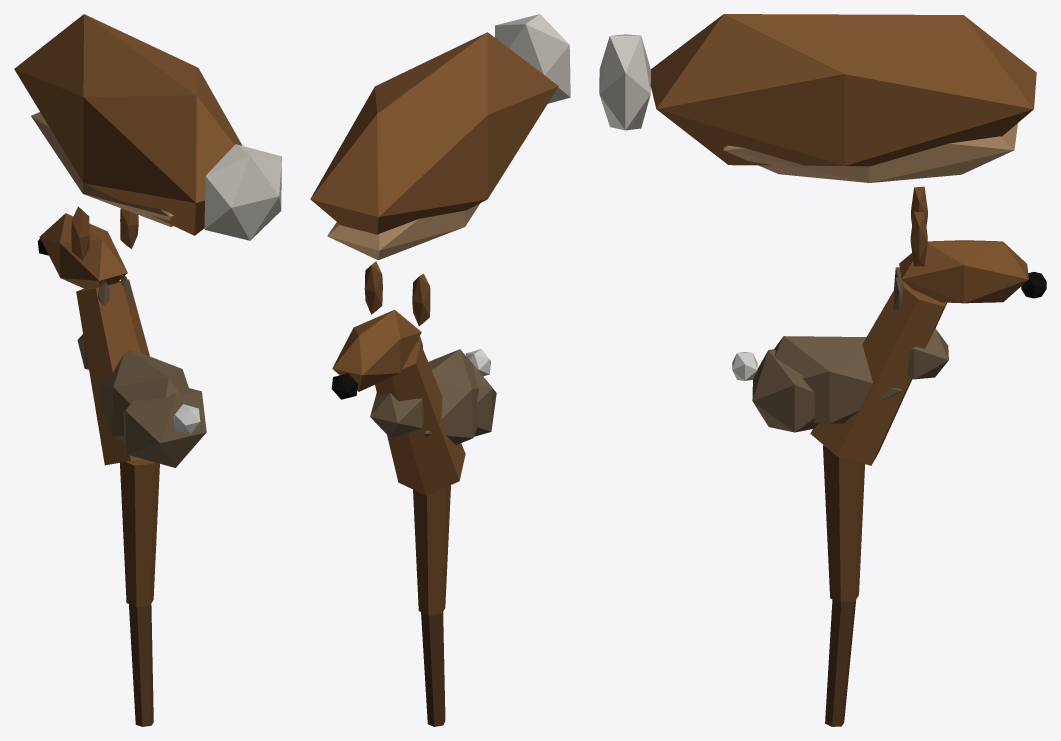
File: animals.glb
The picture shows the model from 3 angles, left to right: view 1: azimuth 30°, elevation 25°; view 2: azimuth 150°, elevation 25°; view 3: azimuth 270°, elevation 25°; orthographic projection. The views are drawn at different scales.
Visible parts, largest first — view 1: reh_rumpf, reh_kopf, hase, reh_bein; view 2: reh_rumpf, reh_kopf, hase, reh_bein; view 3: reh_rumpf, reh_kopf, hase, reh_bein.
Part boxes in pixels (x1,y1,x2,y2): reh_rumpf: (14, 14, 281, 240); reh_kopf: (37, 206, 149, 465); hase: (77, 274, 206, 467); reh_bein: (120, 458, 159, 726); reh_rumpf: (310, 14, 570, 260); reh_kopf: (331, 261, 465, 495); hase: (370, 336, 496, 444); reh_bein: (413, 485, 450, 726); reh_rumpf: (599, 14, 1036, 182); reh_kopf: (810, 186, 1046, 465); hase: (732, 267, 948, 432); reh_bein: (823, 445, 864, 726).
Bounding box in the file's own units: 0.2837 × 1.57 × 0.8977.
